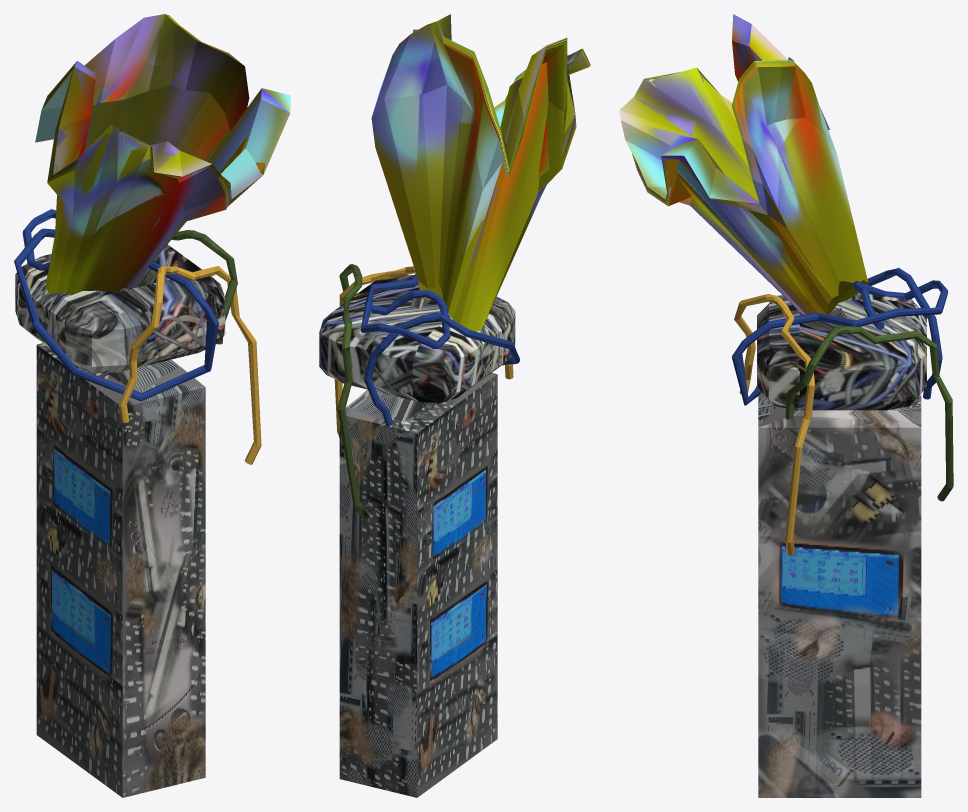
The model's file is audio-flower-cable.glb.
The picture shows the model from 3 angles, left to right: view 1: azimuth 30°, elevation 25°; view 2: azimuth 150°, elevation 25°; view 3: azimuth 270°, elevation 25°; orthographic projection. The views are drawn at different scales.
Visible parts, largest first — view 1: Cube, Cylinder.002, Cube.001, Cylinder, Cylinder.004, Cylinder.001; view 2: Cube, Cylinder.002, Cube.001, Cylinder, Cylinder.001, Cylinder.004; view 3: Cube, Cylinder.002, Cube.001, Cylinder, Cylinder.004, Cylinder.001.
Boxes of the visible parts, <box> form: Cube: <box>36,343,205,797</box>; Cylinder.002: <box>35,14,290,295</box>; Cube.001: <box>15,244,225,373</box>; Cylinder: <box>14,209,218,401</box>; Cylinder.004: <box>118,265,261,464</box>; Cylinder.001: <box>171,230,237,344</box>; Cube: <box>339,298,497,797</box>; Cylinder.002: <box>371,14,590,331</box>; Cube.001: <box>319,274,515,402</box>; Cylinder: <box>361,273,519,426</box>; Cylinder.001: <box>337,264,369,520</box>; Cylinder.004: <box>334,266,513,437</box>; Cube: <box>758,307,921,797</box>; Cylinder.002: <box>619,14,868,314</box>; Cube.001: <box>757,292,926,410</box>; Cylinder: <box>732,268,948,405</box>; Cylinder.004: <box>734,294,814,555</box>; Cylinder.001: <box>785,326,953,501</box>.
Size of the model in its own units: 6.82 by 21.9 by 9.16.
6 materials, 4 textured.
